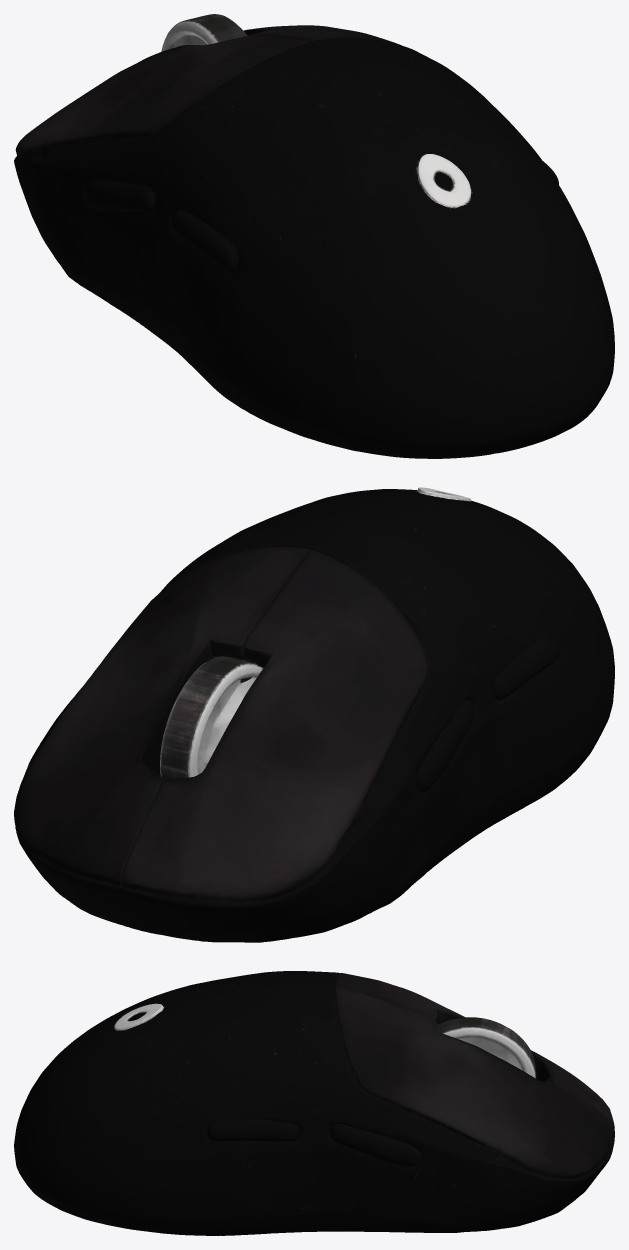
File: model-trellis2.glb
The picture shows the model from 3 angles, top to bottom: view 1: azimuth 30°, elevation 25°; view 2: azimuth 150°, elevation 25°; view 3: azimuth 270°, elevation 25°; orthographic projection. The views are drawn at different scales.
Parts seen in each view (by area): view 1: world; view 2: world; view 3: world.
Part boxes in pixels (box(x1,y1,x2,y2)): world: box(14, 14, 614, 458); world: box(14, 487, 614, 942); world: box(14, 971, 614, 1235).
Bounding box in the file's own units: 0.5011 × 0.3552 × 1.
Materials: 1 (1 with a texture image).
